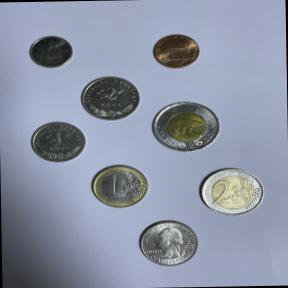coin: (146, 97, 222, 158), (194, 164, 272, 221), (134, 217, 202, 270), (76, 72, 144, 124), (88, 162, 153, 212), (150, 31, 204, 71), (27, 33, 78, 72)
